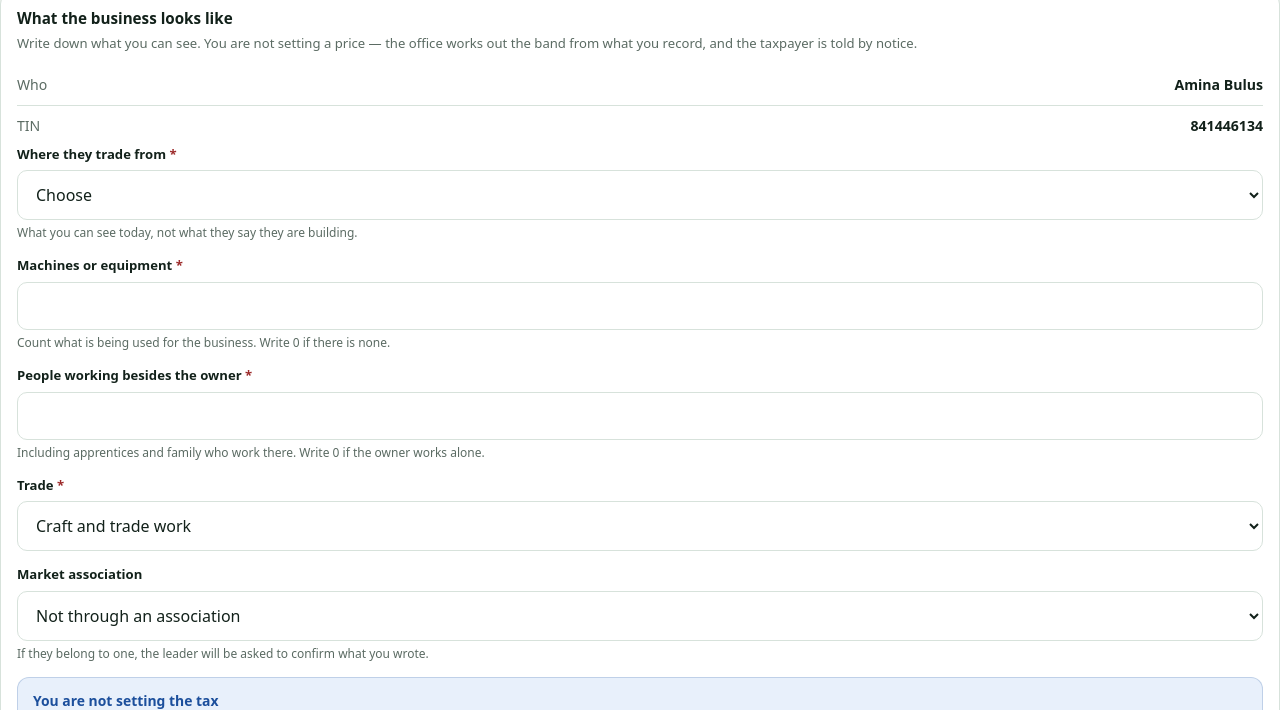
Test case: writing down a stall › shows the band the server worked out, and still no amount
The width and height of the screenshot is (1280, 710).
Select "Lock-up shop" in the dropdown labelled "Where they trade from *" at (640, 195), box [17,170,1263,220]
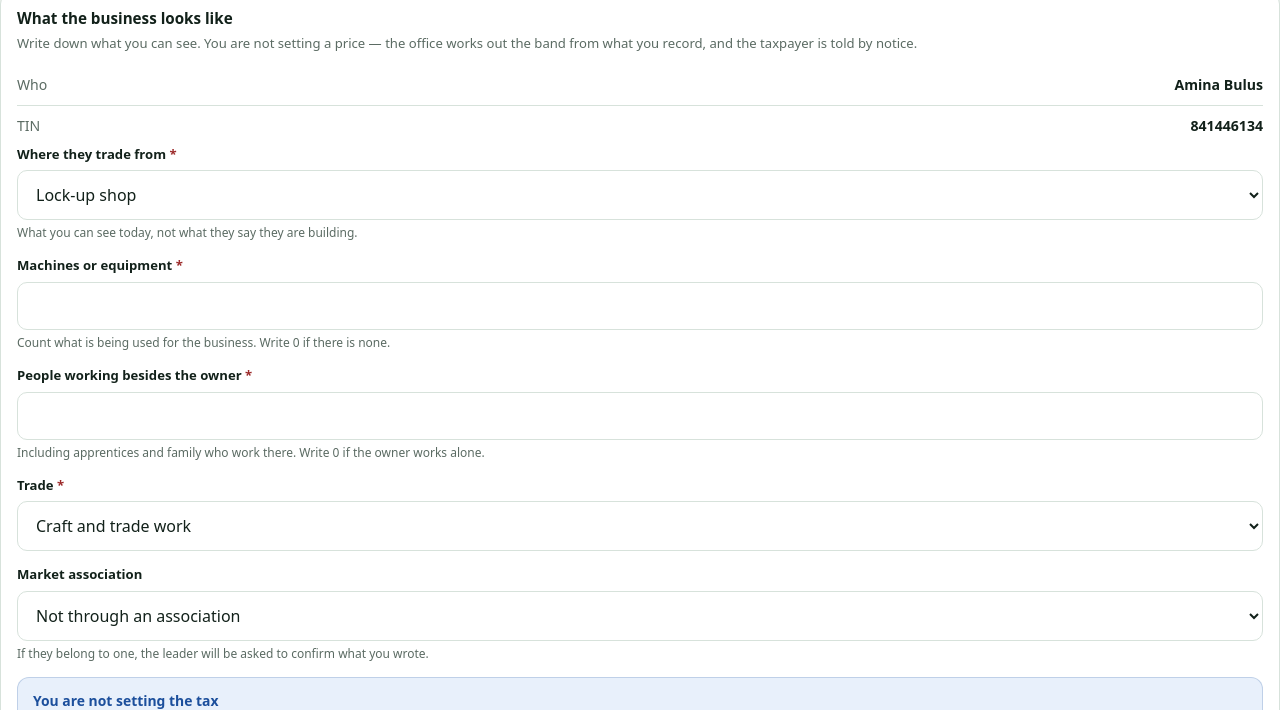
Type "3" into the number field labelled "Machines or equipment *" at (640, 306), box [17,282,1263,330]
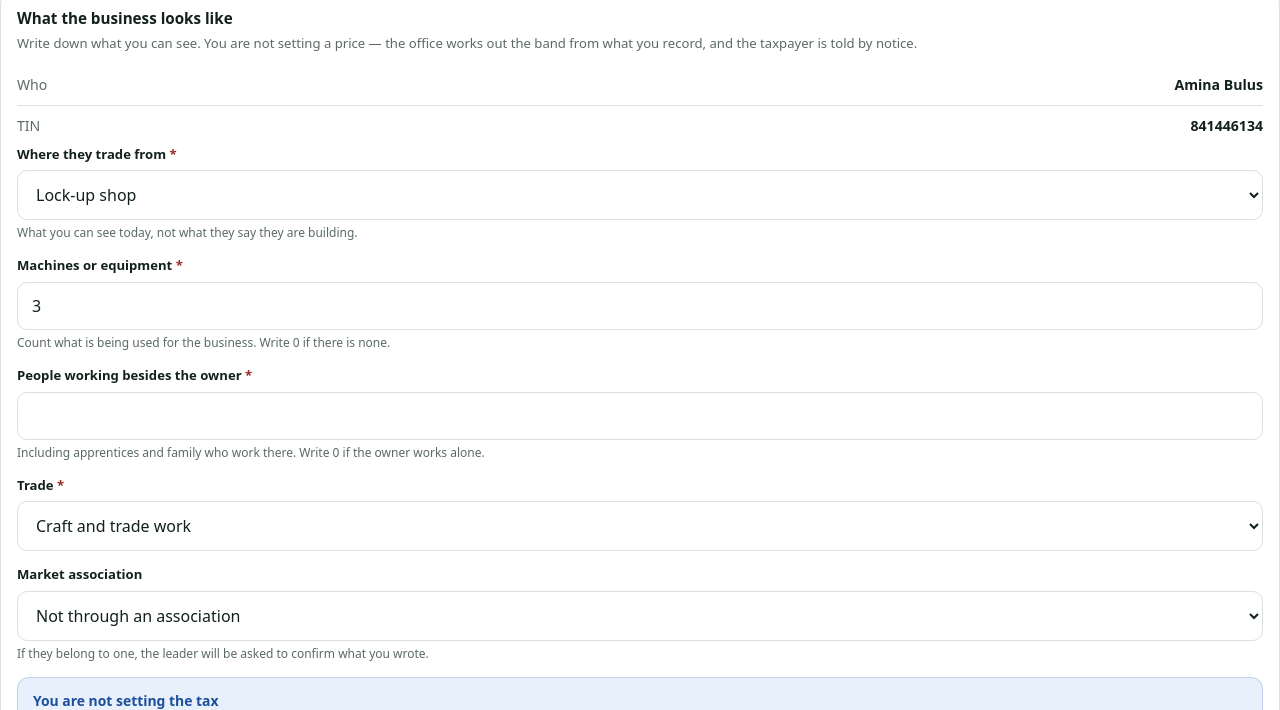
Type "2" into the number field labelled "People working besides the owner *" at (640, 416), box [17,392,1263,440]
(page scrolled)
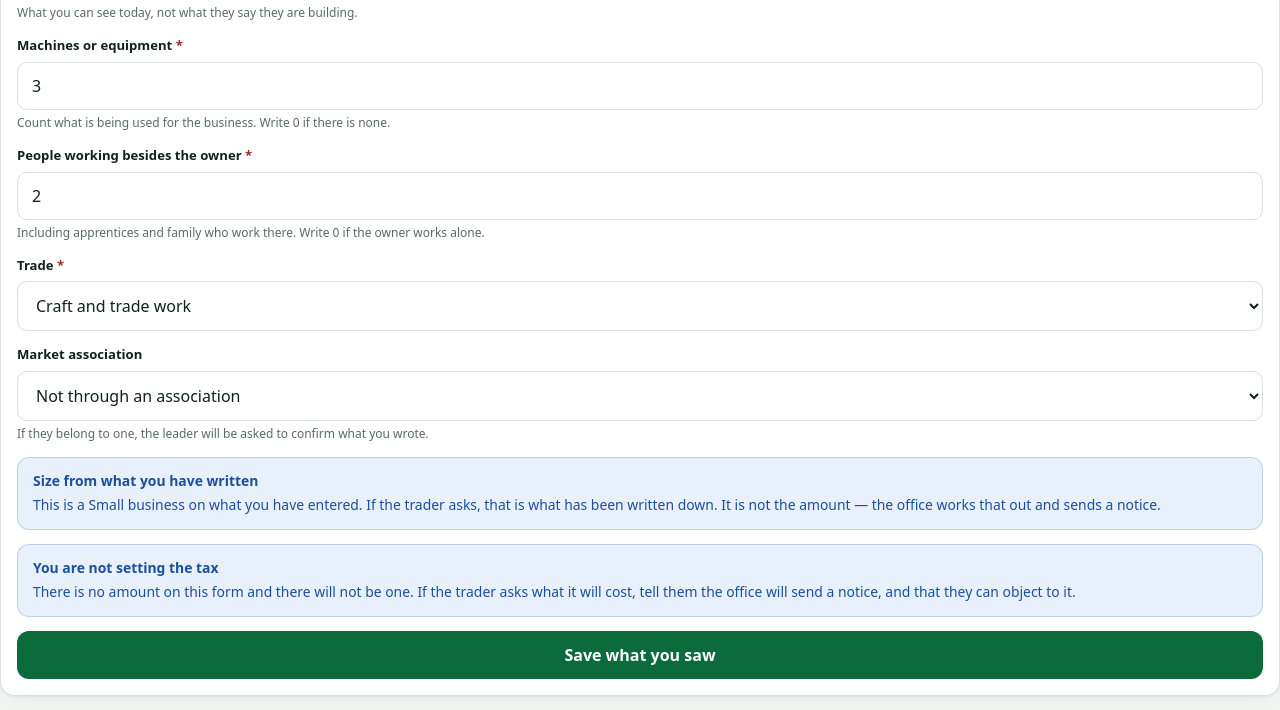
Click the button "Save what you saw" at (640, 655), box [17,631,1263,679]
(page scrolled)
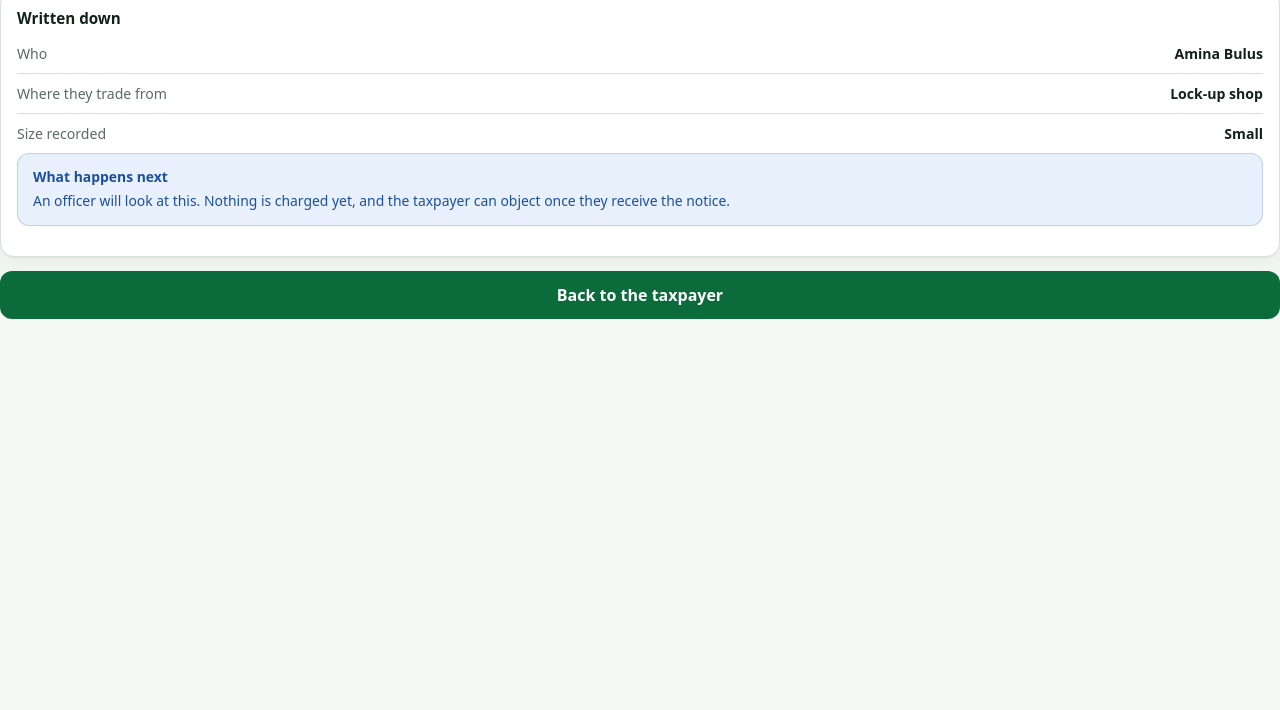
expect the text "Small" is shown: met, box [1224,123,1263,144]
expect the heading "Written down" is shown: met, box [17,8,121,28]
